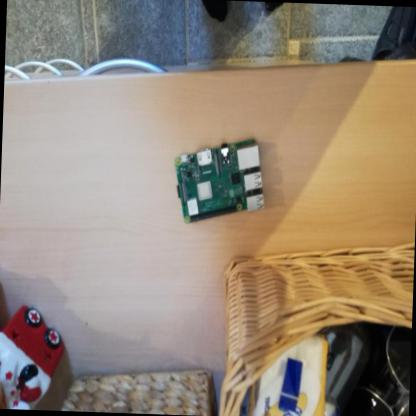Raspberry_Pi_3: (173, 139, 268, 230)
